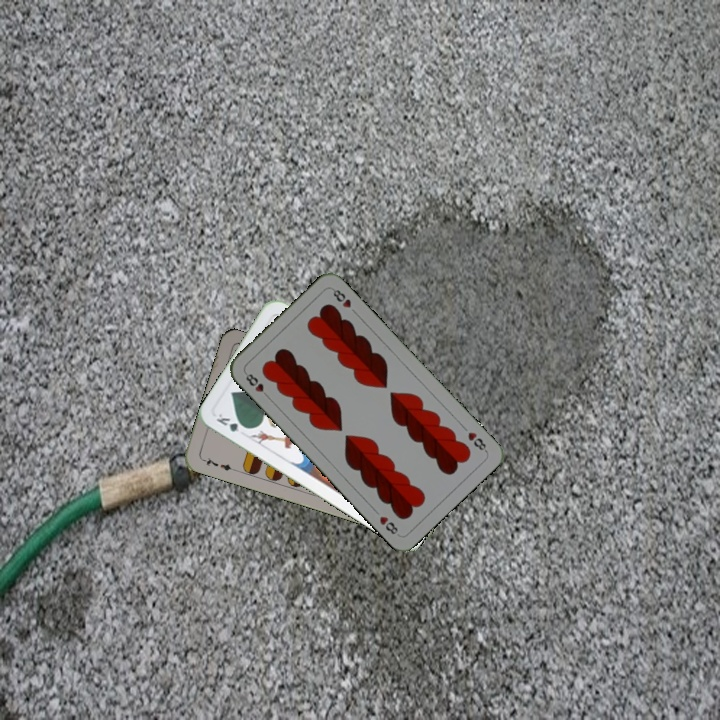E7: (198, 453, 238, 474)
GK: (212, 409, 251, 435)
H8: (241, 369, 272, 401), (464, 428, 490, 454)
